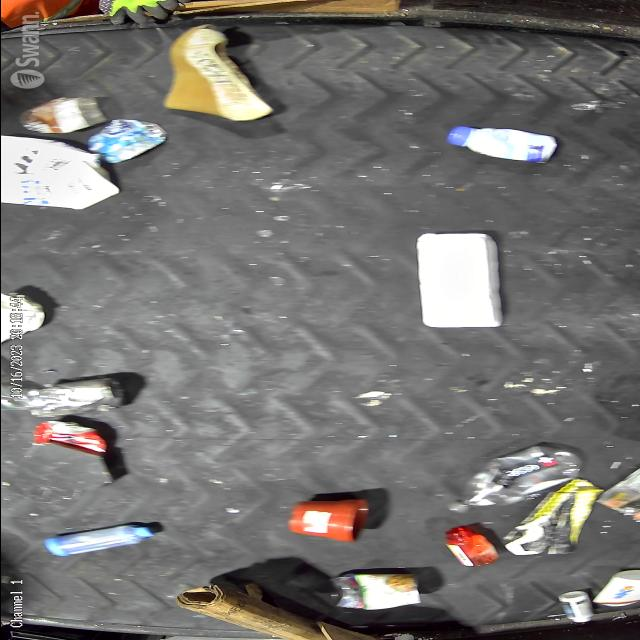can: (310, 561, 431, 615), (0, 374, 132, 418), (76, 111, 164, 163), (18, 92, 114, 136)
